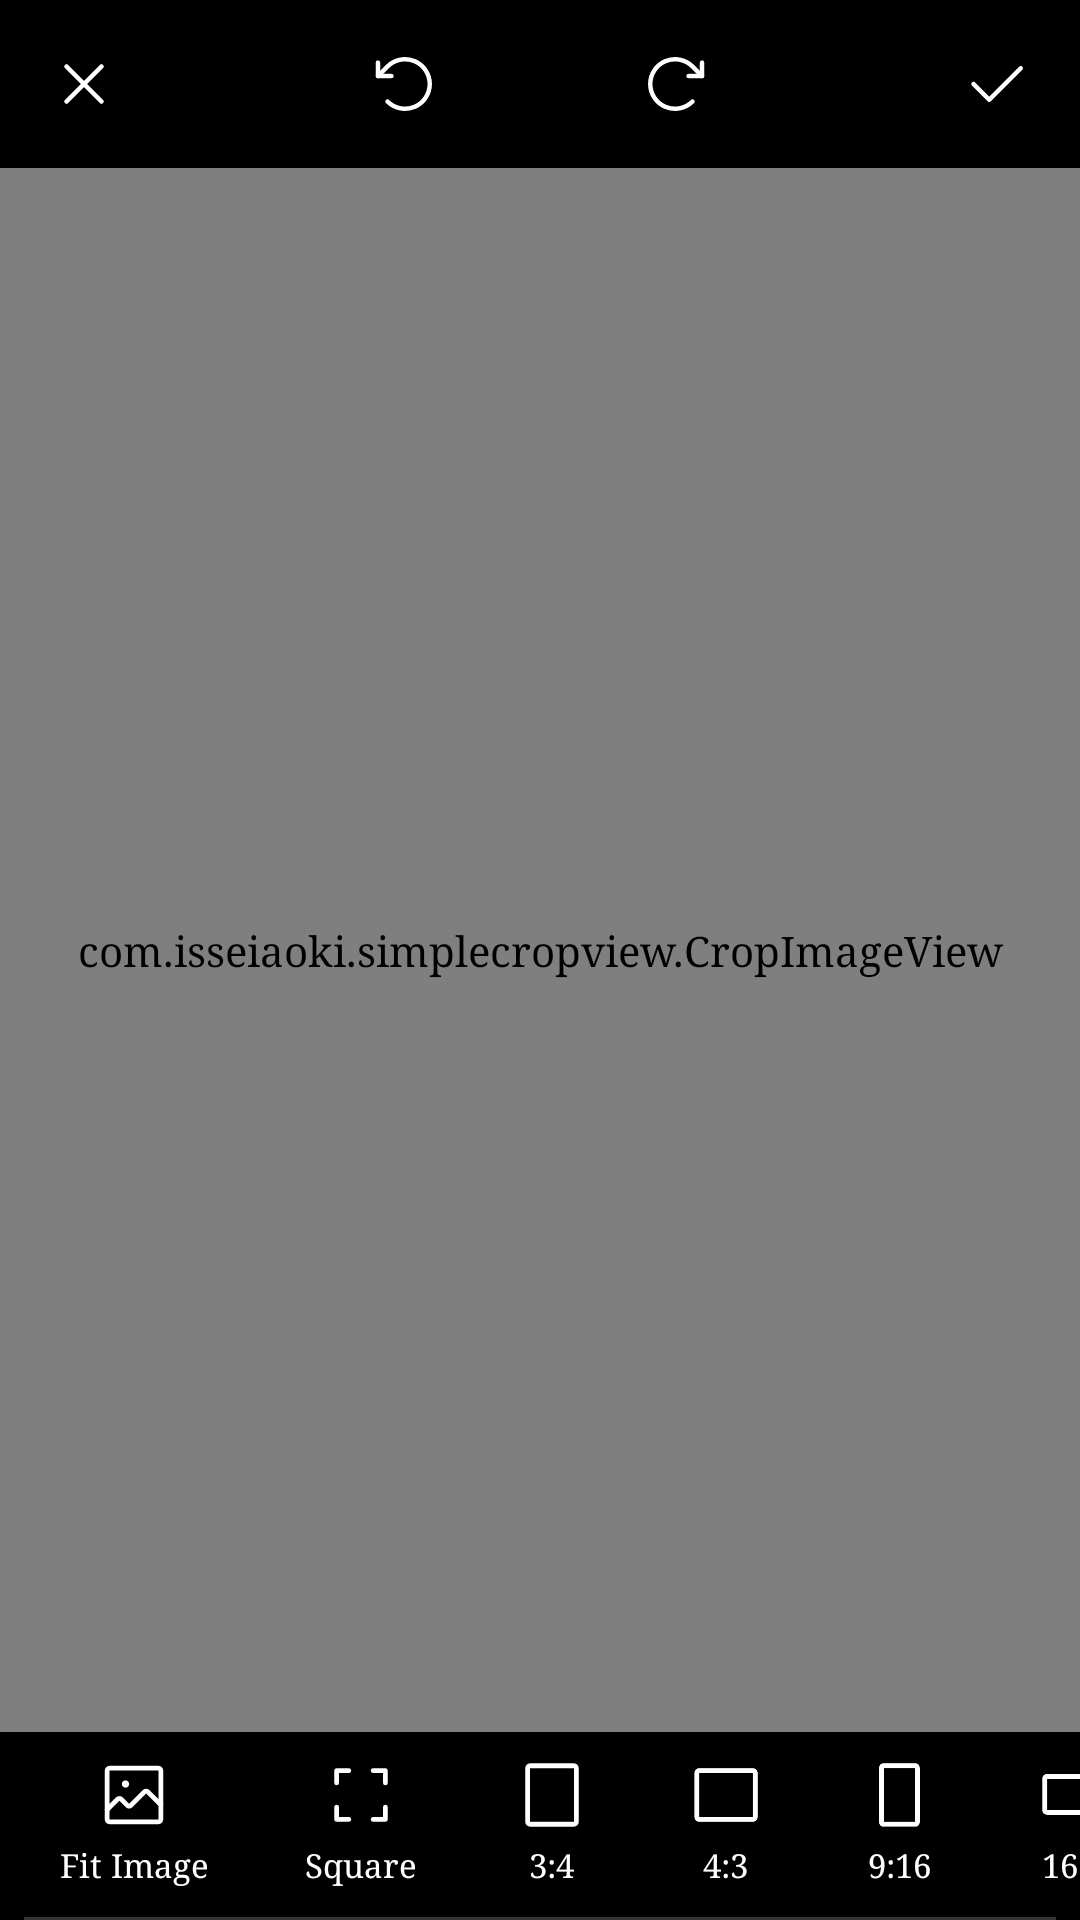

Screen size 1080*1920. Icon name, then its center in pixels as (x=x, y=y):
close: (x=84, y=84)
done: (x=997, y=84)
rotate left: (x=403, y=84)
rotate right: (x=676, y=84)
